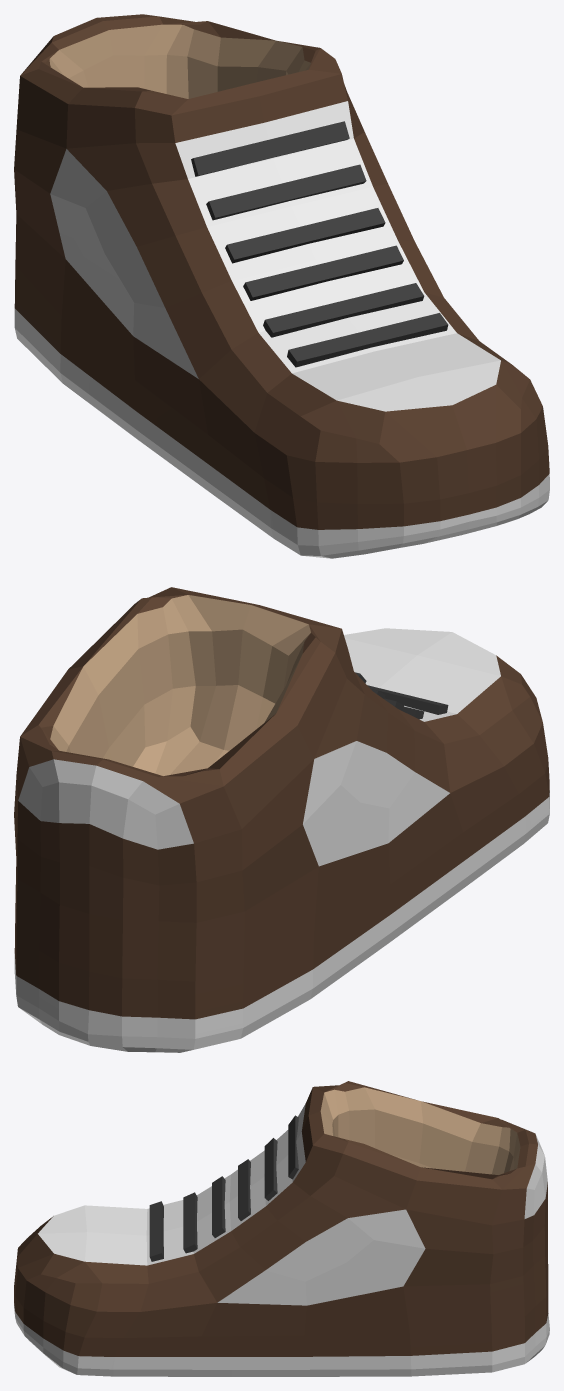
Rendered from Clothes10_C4.fbx.
3 views of the same model, one above another, from view 1: azimuth 30°, elevation 25°; view 2: azimuth 150°, elevation 25°; view 3: azimuth 270°, elevation 25° (orthographic). The views are drawn at different scales.
Visible parts, largest first — view 1: Clothes10_C4; view 2: Clothes10_C4; view 3: Clothes10_C4.
Boxes of the visible parts, x1,y1,x2,y2 form: Clothes10_C4: [14, 14, 549, 558]; Clothes10_C4: [14, 587, 549, 1052]; Clothes10_C4: [14, 1081, 549, 1376].
Bounding box in the file's own units: 7.7 × 9.41 × 19.94.
